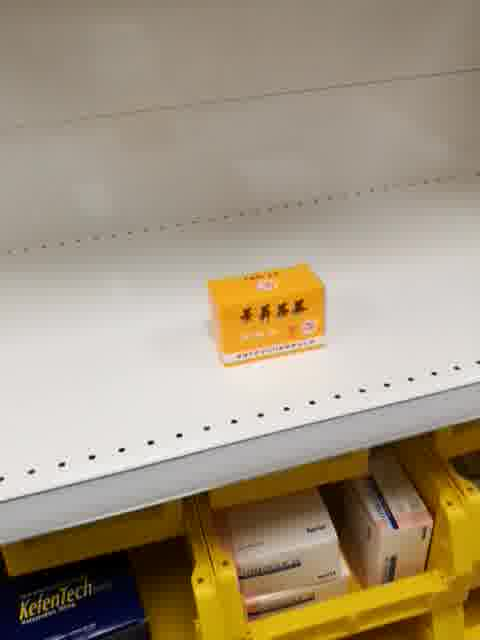jasminetea: (200, 260, 329, 370)
